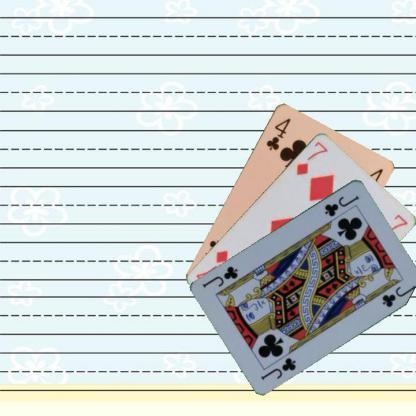4c: (263, 115, 292, 151)
7d: (294, 138, 329, 176)
Jc: (258, 354, 298, 382), (322, 192, 360, 218)
